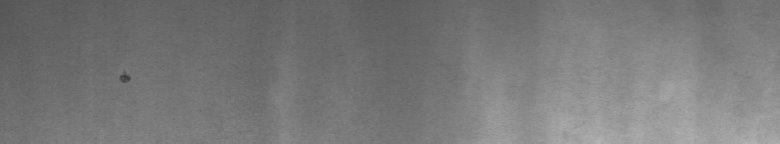fi: (117, 66, 133, 88)
